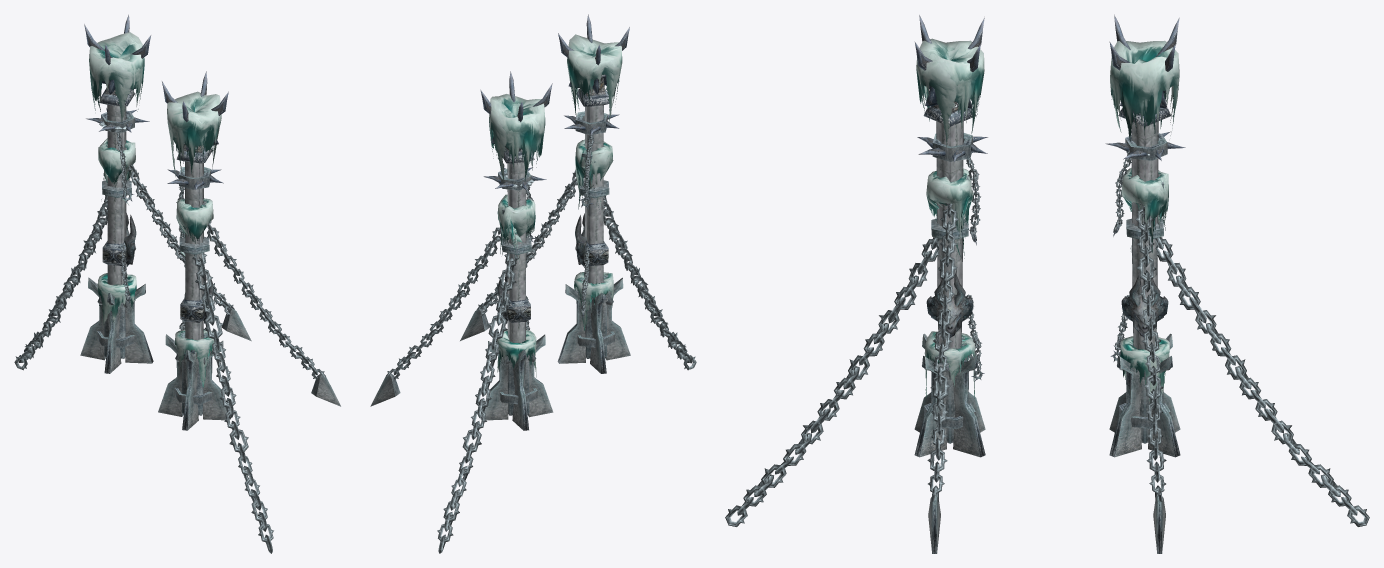
The model's file is LastBossMap1_O2.fbx.
3 renders of one model, left to right at view 1: azimuth 30°, elevation 25°; view 2: azimuth 150°, elevation 25°; view 3: azimuth 270°, elevation 25°, orthographic. The views are drawn at different scales.
Parts seen in each view (by area): view 1: icecrown_lavaman_unchained; view 2: icecrown_lavaman_unchained; view 3: icecrown_lavaman_unchained.
Boxes of the visible parts, <box> form: icecrown_lavaman_unchained: <box>14,14,340,553</box>; icecrown_lavaman_unchained: <box>370,14,696,553</box>; icecrown_lavaman_unchained: <box>725,14,1369,553</box>.
Bounding box in the file's own units: 790 × 1820 × 2110.
